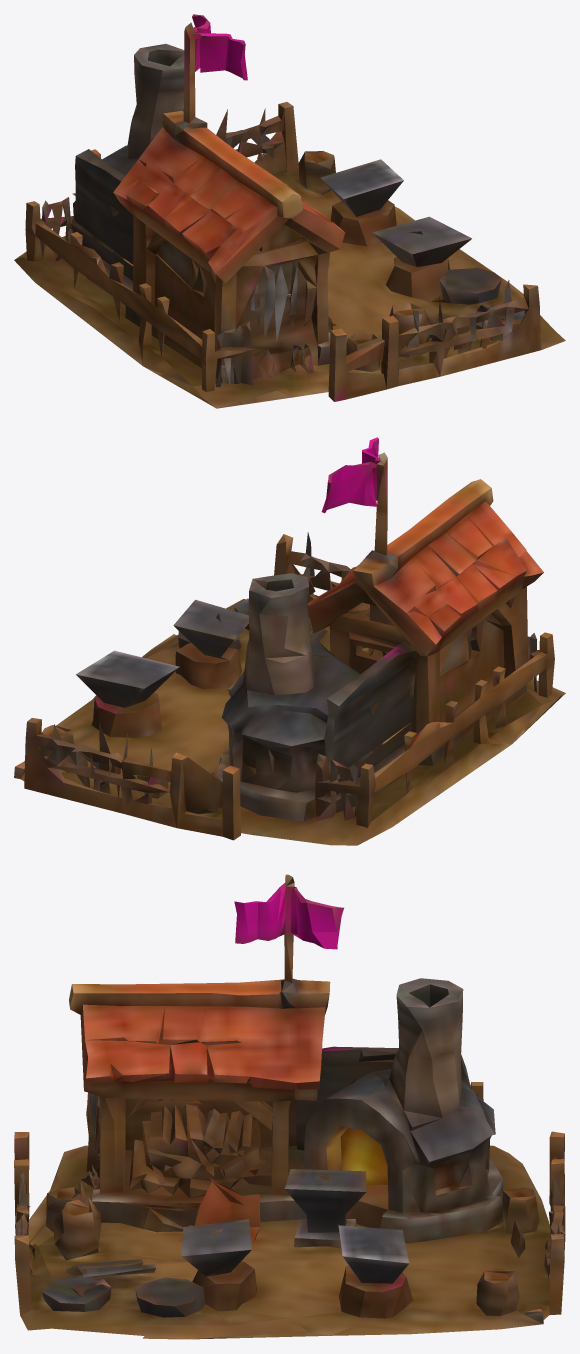
The model's file is smithy.lod2.glb.
3 views of the same model, one above another, from view 1: azimuth 30°, elevation 25°; view 2: azimuth 150°, elevation 25°; view 3: azimuth 270°, elevation 25° (orthographic). The views are drawn at different scales.
Parts seen in each view (by area): view 1: smithy.lod2_uv; view 2: smithy.lod2_uv; view 3: smithy.lod2_uv.
Boxes of the visible parts, x1,y1,x2,y2 form: smithy.lod2_uv: (14, 14, 565, 408); smithy.lod2_uv: (14, 437, 565, 845); smithy.lod2_uv: (14, 874, 565, 1339).
Bounding box in the file's own units: 1.56 × 1.21 × 1.9.
Materials: 1 (1 with a texture image).
